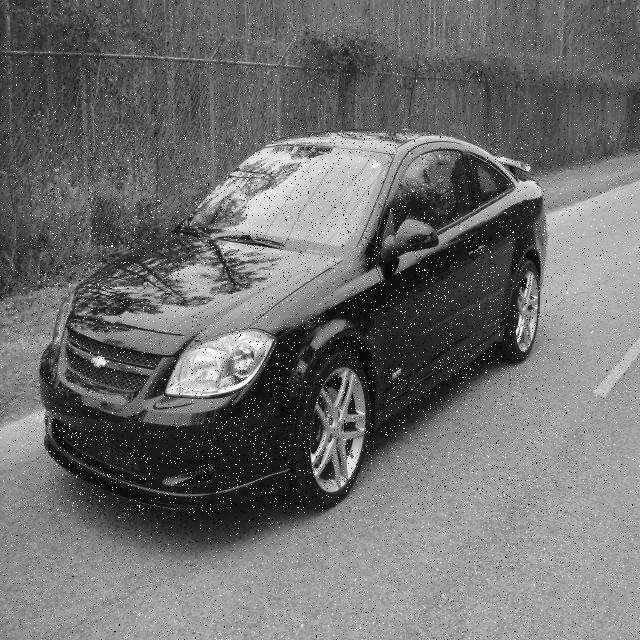Sedan: (38, 131, 549, 514)
